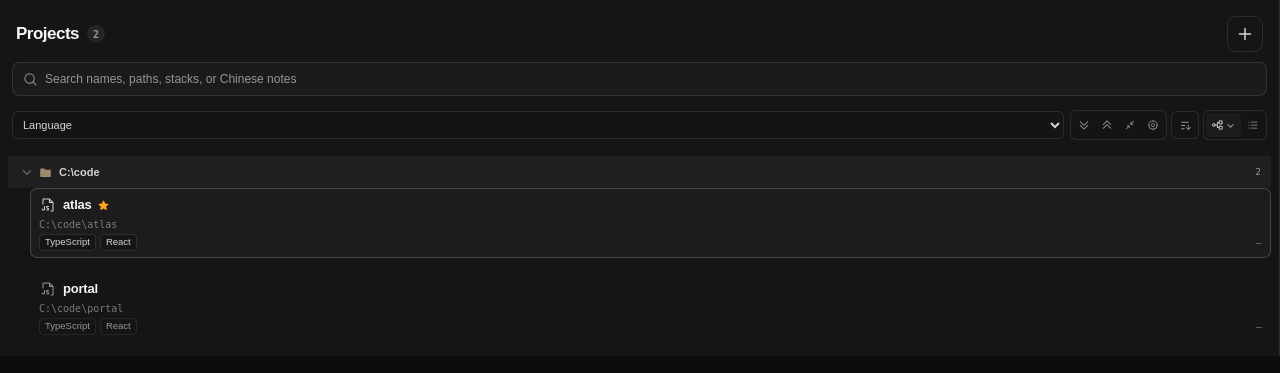
ProjectList tree › uses listbox options in flat mode without treeitem semantics
Expected: the list item "atlas" is shown, left=8, top=188, right=1271, bottom=258
Click the button named "Flat" at (1253, 125), box left=1242, top=113, right=1264, bottom=137
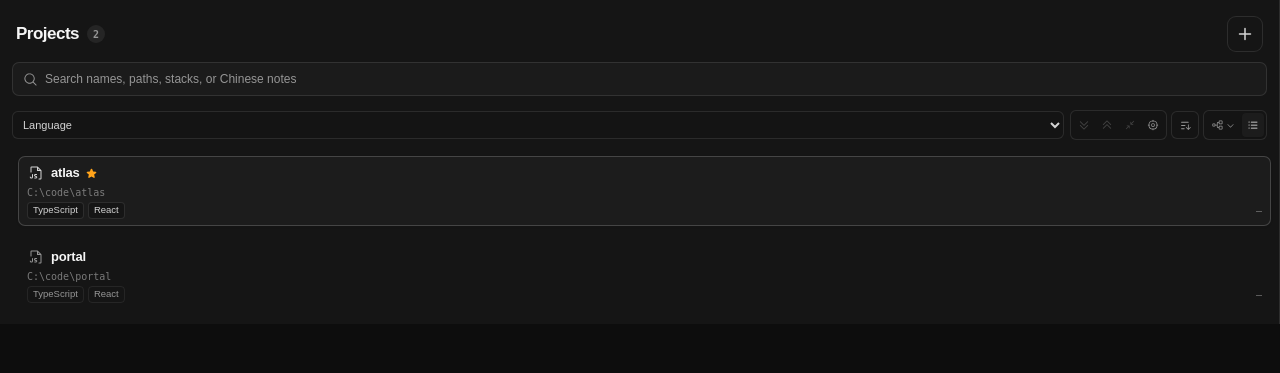
Result: the list named "Projects" is shown at left=0, top=150, right=1279, bottom=324
Result: the number of options is 2 at left=8, top=156, right=1271, bottom=226; left=8, top=240, right=1271, bottom=310
